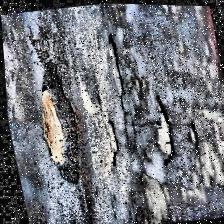pothole: (31, 80, 89, 188), (147, 94, 179, 167), (102, 33, 127, 97), (99, 118, 123, 166), (185, 120, 199, 148)
